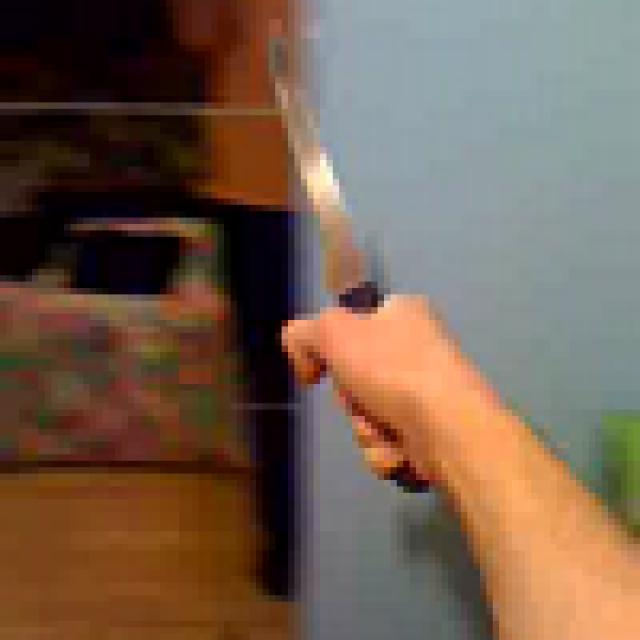Knife: (231, 19, 474, 506)
